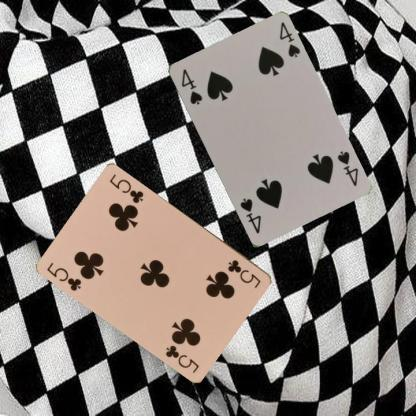4s: (178, 66, 203, 106), (334, 148, 359, 187)
5c: (226, 256, 262, 290), (45, 260, 83, 292)
